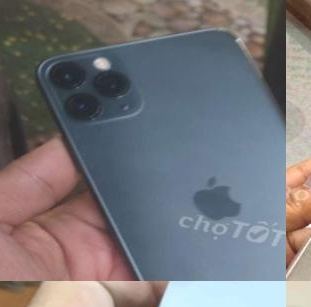scratch: (221, 28, 272, 81)
